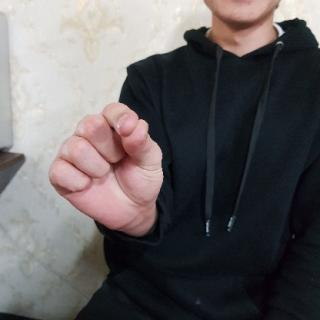FAA: (46, 98, 171, 237)
